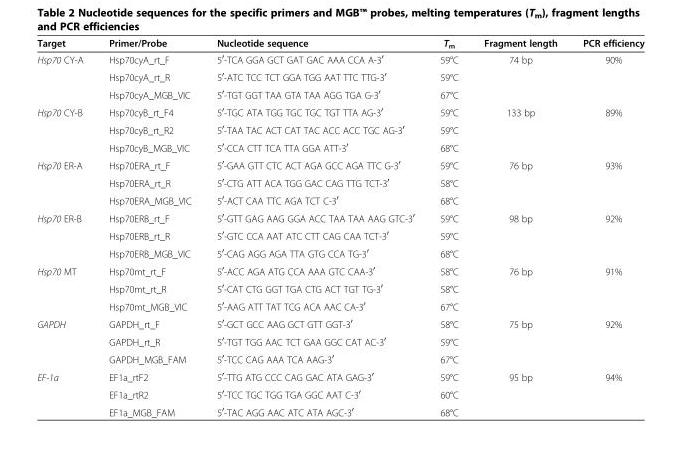table: (36, 36, 643, 417)
table column: (203, 36, 426, 417), (95, 36, 203, 417), (470, 36, 569, 417), (569, 36, 643, 417), (36, 36, 95, 417), (426, 36, 470, 417)
table column header: (36, 36, 643, 51)
table row: (36, 67, 643, 85), (36, 102, 643, 120), (36, 120, 643, 138), (36, 155, 643, 173), (36, 173, 643, 191), (36, 208, 643, 226), (36, 226, 643, 244), (36, 261, 643, 279), (36, 279, 643, 297), (36, 314, 643, 332), (36, 349, 643, 367), (36, 367, 643, 385), (36, 85, 643, 102), (36, 138, 643, 155), (36, 191, 643, 208), (36, 244, 643, 261), (36, 297, 643, 314), (36, 332, 643, 349), (36, 385, 643, 402), (36, 51, 643, 67), (36, 36, 643, 51), (36, 402, 643, 417)
table spanning cell: (36, 102, 95, 155), (36, 155, 95, 208), (36, 208, 95, 261), (36, 261, 95, 314), (36, 314, 95, 367), (36, 51, 95, 102), (36, 367, 95, 417)
